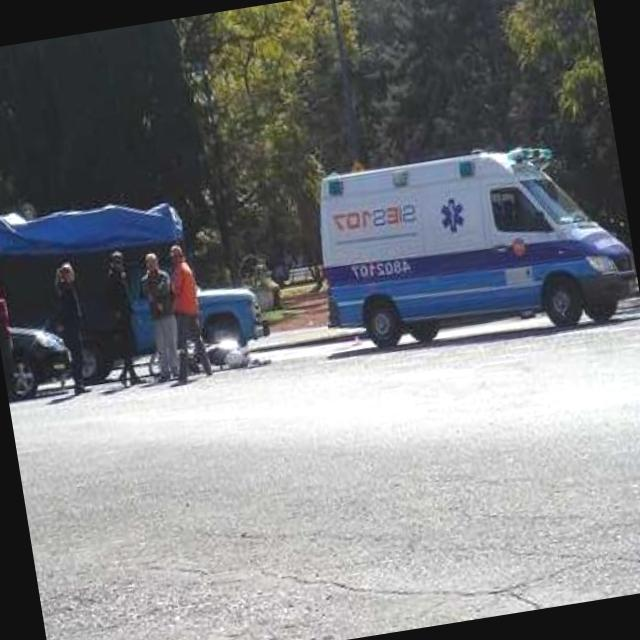emergency-vehicle: (293, 122, 640, 361)
